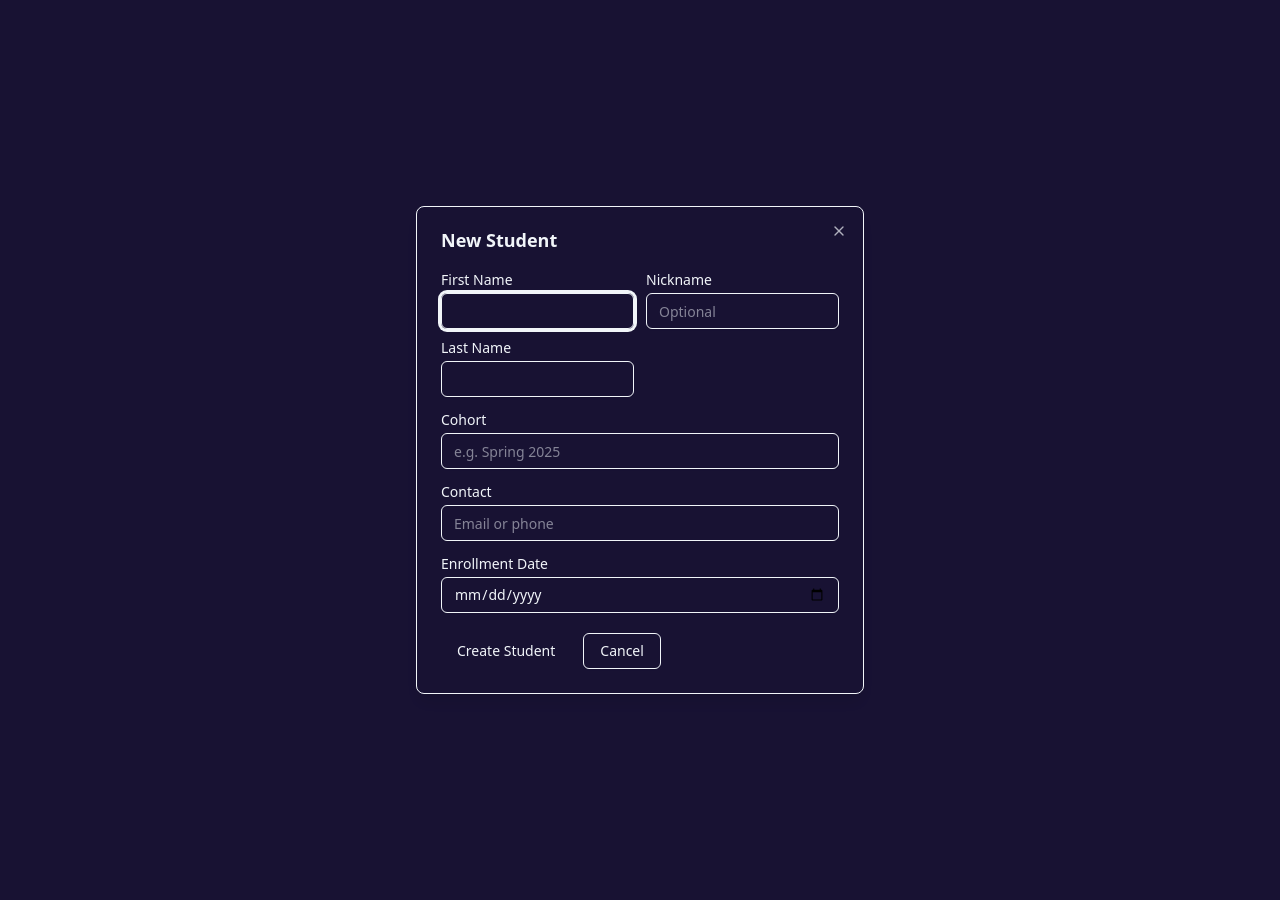
NewStudentDialog › should display error message on failed submission
Step 1. Type "John" into the field labelled "First Name" → (538, 311), box [441,293,634,329]
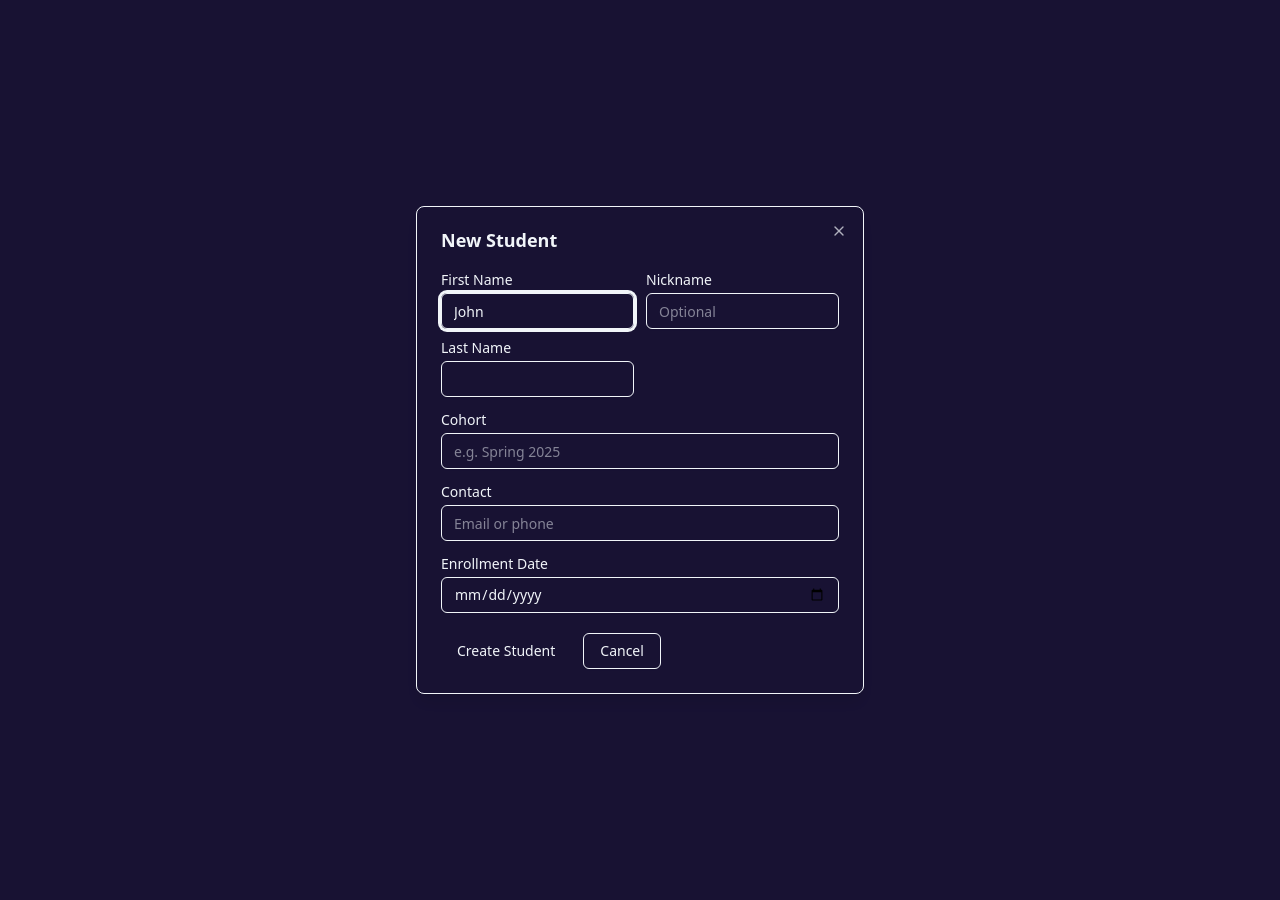
Step 2. Type "Doe" into the field labelled "Last Name" → (538, 379), box [441,361,634,397]
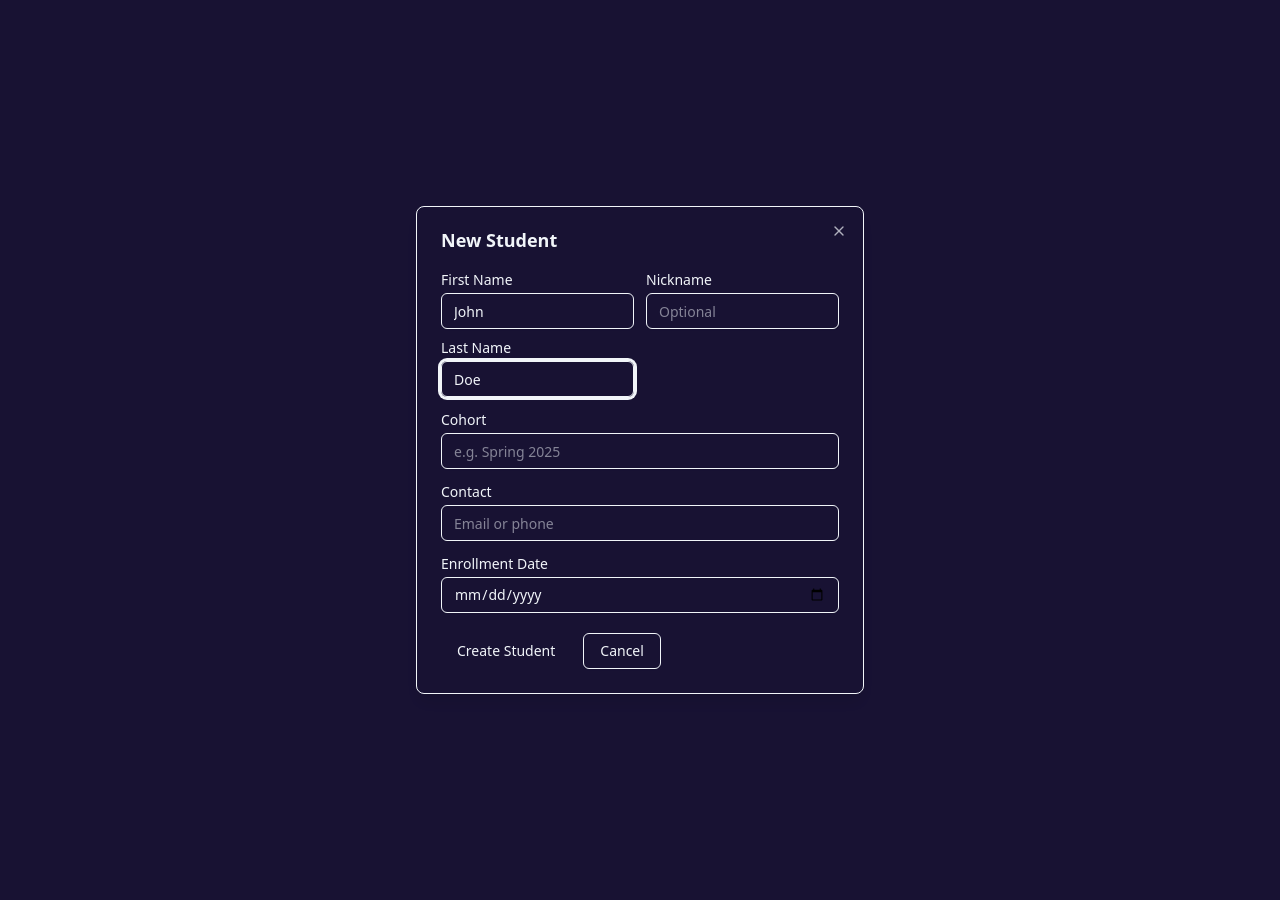
Step 3. Click the button "Create Student" → (506, 651), box [441,633,571,669]
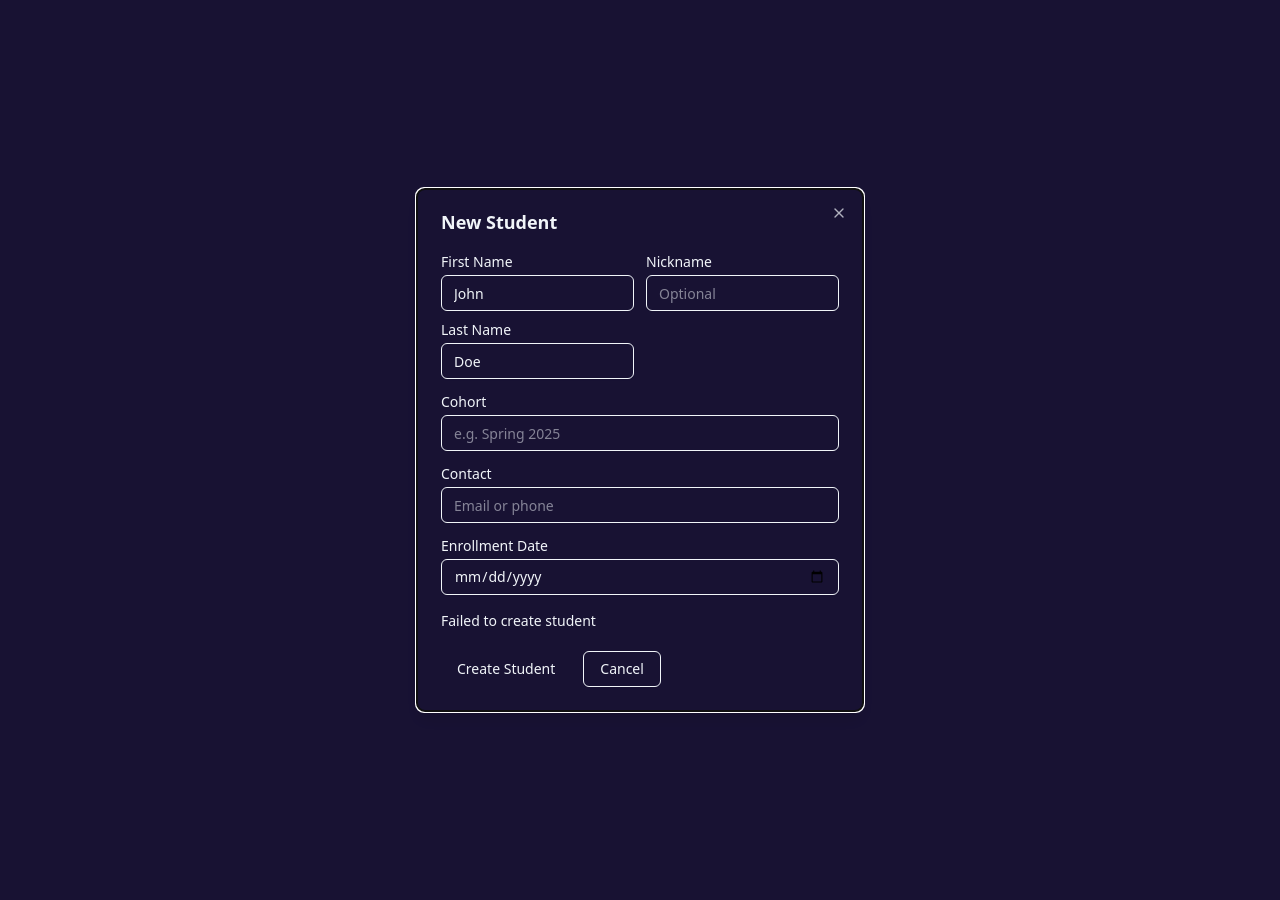
Now the text "Failed to create student" is shown, box [441,611,596,630]
